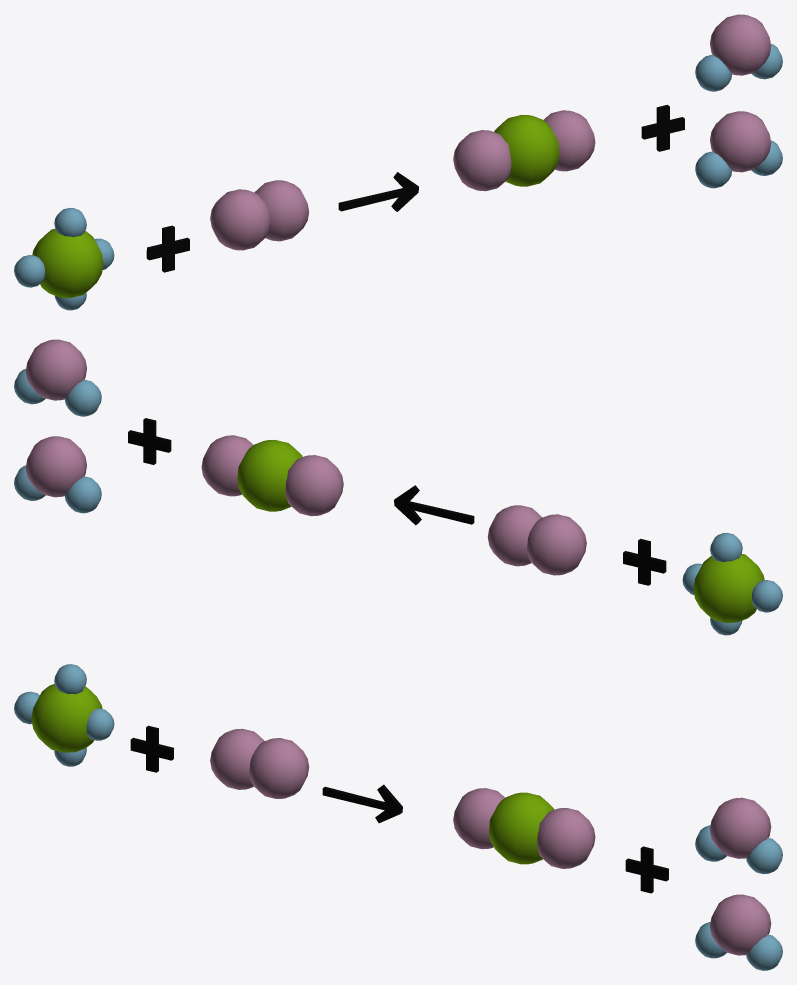
The model's file is formula.fbx.
The picture shows the model from 3 angles, top to bottom: view 1: azimuth 30°, elevation 25°; view 2: azimuth 150°, elevation 25°; view 3: azimuth 330°, elevation 25°; orthographic projection.
Visible parts, largest first — view 1: pSphere1, pSphere8, pSphere6, pSphere10, pSphere11, pSphere16, pSphere7, pSphere9, pSphere14, pSphere13, pSphere2, pSphere4 (+5 smaller); view 2: pSphere1, pSphere8, pSphere6, pSphere10, pSphere11, pSphere16, pSphere7, pSphere9, pSphere14, pSphere13, pSphere2, pSphere4 (+5 smaller); view 3: pSphere1, pSphere8, pSphere7, pSphere9, pSphere16, pSphere11, pSphere6, pSphere10, pSphere15, pSphere12, pSphere4, pSphere3 (+6 smaller).
Part boxes in pixels (x1,y1,x2,y2): pSphere1: (32, 229, 103, 297); pSphere8: (494, 115, 559, 186); pSphere6: (210, 189, 269, 250); pSphere10: (453, 130, 511, 191); pSphere11: (710, 14, 771, 75); pSphere16: (710, 111, 771, 172); pSphere7: (254, 180, 309, 241); pSphere9: (543, 110, 595, 171); pSphere14: (695, 151, 732, 188); pSphere13: (695, 54, 732, 91); pSphere2: (14, 255, 45, 287); pSphere4: (54, 207, 86, 237); pSphere1: (693, 554, 764, 622); pSphere8: (237, 440, 302, 511); pSphere6: (527, 514, 586, 575); pSphere10: (285, 455, 343, 516); pSphere11: (25, 339, 86, 400); pSphere16: (25, 436, 86, 497); pSphere7: (487, 505, 542, 566); pSphere9: (201, 435, 253, 496); pSphere14: (64, 476, 101, 513); pSphere13: (64, 379, 101, 416); pSphere2: (751, 580, 782, 612); pSphere4: (710, 532, 742, 562); pSphere1: (31, 684, 102, 752); pSphere8: (489, 792, 554, 864); pSphere7: (249, 738, 309, 798); pSphere9: (537, 808, 595, 868); pSphere16: (710, 894, 771, 955); pSphere11: (710, 797, 771, 858); pSphere6: (210, 728, 264, 789); pSphere10: (453, 788, 504, 849); pSphere15: (746, 934, 782, 970); pSphere12: (746, 838, 782, 874); pSphere4: (54, 664, 86, 693); pSphere3: (86, 708, 114, 740).
Size of the model in its own units: 205 by 41.71 by 16.03.
